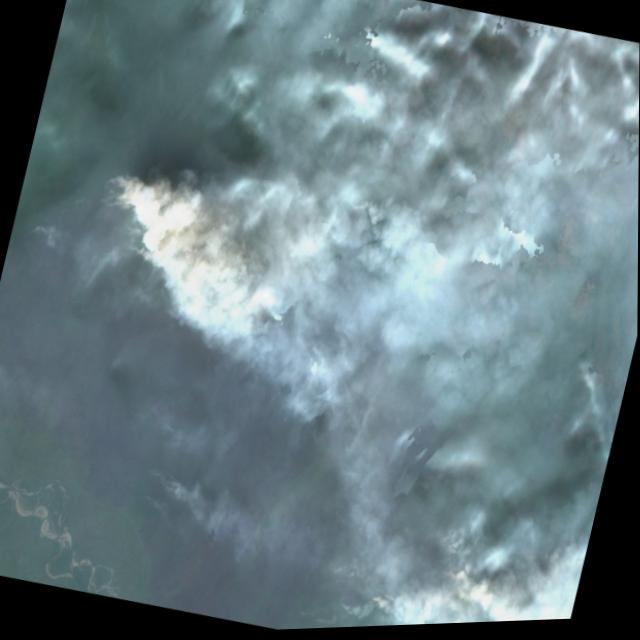fire: (0, 118, 404, 371), (353, 508, 531, 630)
